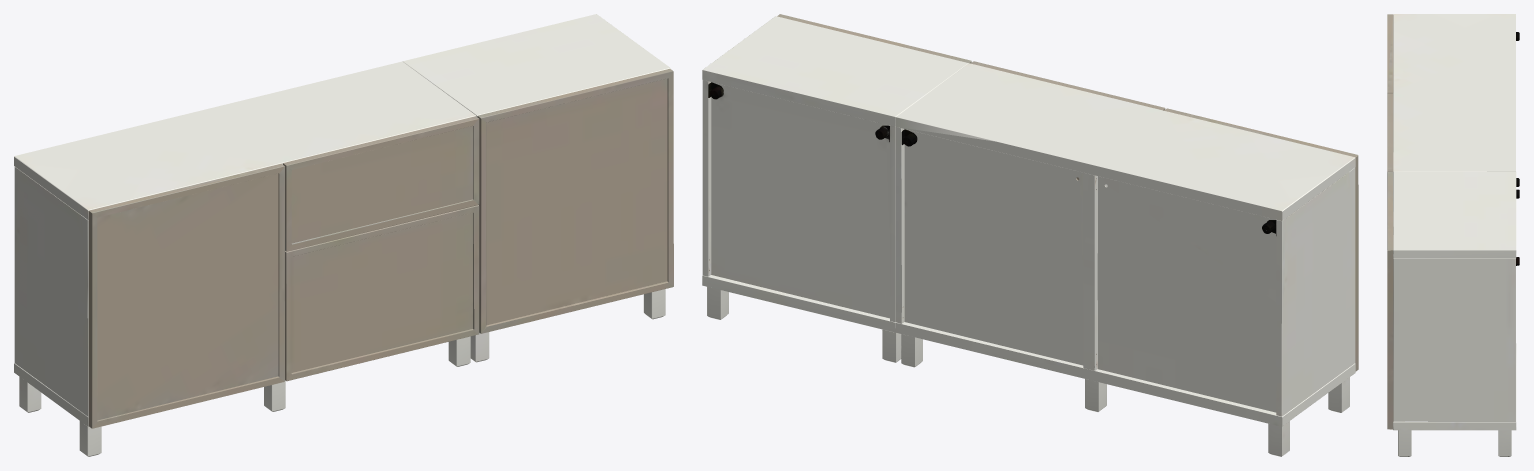
Rendered from 29 - BESTÅ Storage combination with drawers - Krukmakare beigeStubbarp white 180x42x74 cm.glb.
The picture shows the model from 3 angles, left to right: view 1: azimuth 30°, elevation 25°; view 2: azimuth 150°, elevation 25°; view 3: azimuth 270°, elevation 25°; orthographic projection. The views are drawn at different scales.
Visible parts, largest first — view 1: 59597823_storage_combination_with_drawers.009, 59597823_storage_combination_with_drawers, 59597823_storage_combination_with_drawers.003, 59597823_storage_combination_with_drawers.010, 59597823_storage_combination_with_drawers.011, 59597823_storage_combination_with_drawers.001, 59597823_storage_combination_with_drawers.004; view 2: 59597823_storage_combination_with_drawers.009, 59597823_storage_combination_with_drawers.001, 59597823_storage_combination_with_drawers.004, 59597823_storage_combination_with_drawers, 59597823_storage_combination_with_drawers.011, 59597823_storage_combination_with_drawers.003; view 3: 59597823_storage_combination_with_drawers.001, 59597823_storage_combination_with_drawers.009, 59597823_storage_combination_with_drawers.003, 59597823_storage_combination_with_drawers.004, 59597823_storage_combination_with_drawers, 59597823_storage_combination_with_drawers.011.
Boxes of the visible parts, <box> form: 59597823_storage_combination_with_drawers.009: <box>14,61,476,426</box>; 59597823_storage_combination_with_drawers: <box>88,163,284,428</box>; 59597823_storage_combination_with_drawers.003: <box>477,68,673,333</box>; 59597823_storage_combination_with_drawers.010: <box>285,205,479,381</box>; 59597823_storage_combination_with_drawers.011: <box>283,116,479,251</box>; 59597823_storage_combination_with_drawers.001: <box>402,14,670,116</box>; 59597823_storage_combination_with_drawers.004: <box>19,289,665,456</box>; 59597823_storage_combination_with_drawers.009: <box>895,63,1355,426</box>; 59597823_storage_combination_with_drawers.001: <box>702,16,968,332</box>; 59597823_storage_combination_with_drawers.004: <box>707,287,1349,456</box>; 59597823_storage_combination_with_drawers: <box>1164,108,1358,371</box>; 59597823_storage_combination_with_drawers.011: <box>970,61,1165,110</box>; 59597823_storage_combination_with_drawers.003: <box>777,14,971,63</box>; 59597823_storage_combination_with_drawers.001: <box>1393,171,1519,430</box>; 59597823_storage_combination_with_drawers.009: <box>1393,14,1519,186</box>; 59597823_storage_combination_with_drawers.003: <box>1387,172,1393,429</box>; 59597823_storage_combination_with_drawers.004: <box>1398,430,1511,456</box>; 59597823_storage_combination_with_drawers: <box>1387,14,1393,93</box>; 59597823_storage_combination_with_drawers.011: <box>1387,93,1393,171</box>.
Bounding box in the file's own units: 1.8 × 0.7402 × 0.426.
1 material, 1 textured.
